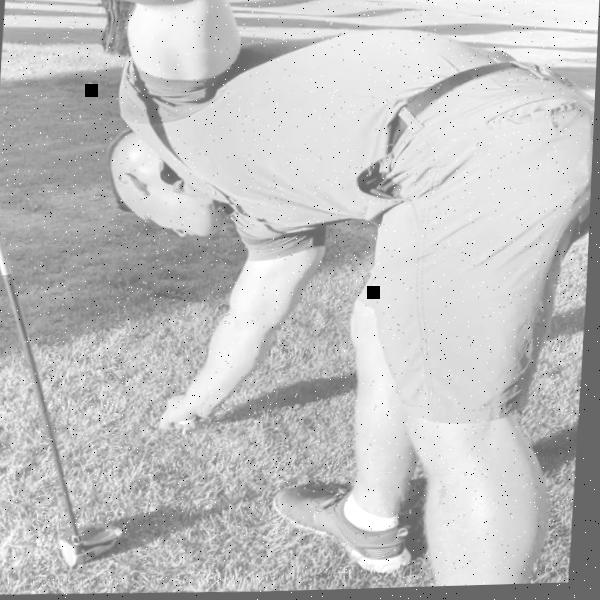ClubHead: (57, 525, 127, 568)
